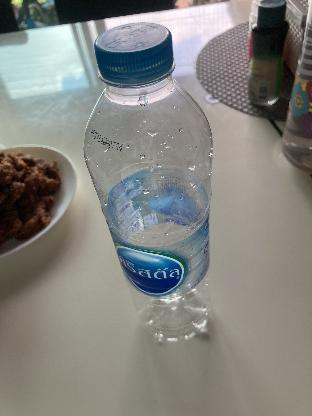Plastic Bottle: (80, 19, 212, 347)
